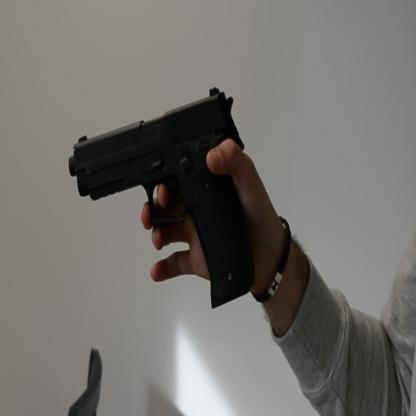gun: (67, 85, 257, 309)
